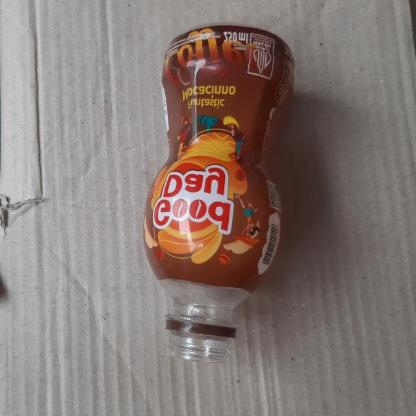Plastic Bottle: (142, 20, 298, 366)
